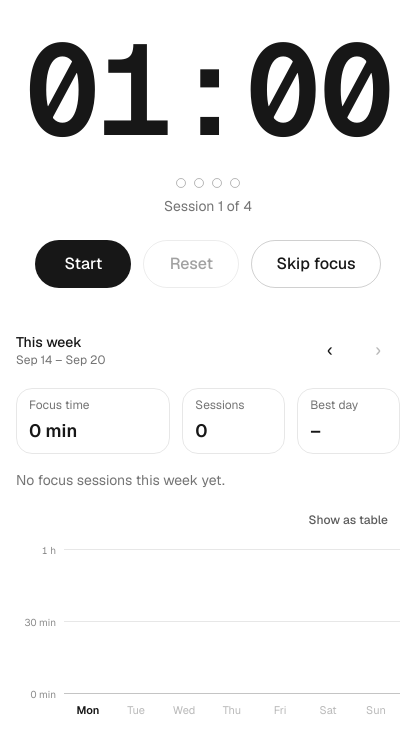
Test: deleting sessions › can undo a delete
Click the button "Start". click: (83, 264)
box: [35,240,131,288]
Wait 60000 ms
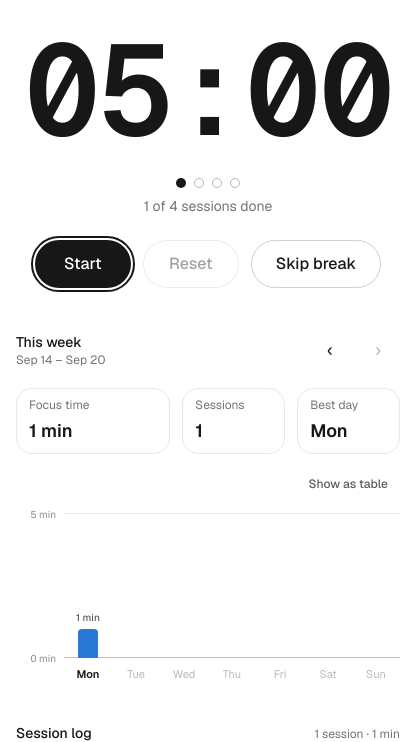
Click the button "Skip break". click: (316, 264)
box: [251,240,381,288]
(page scrolled)
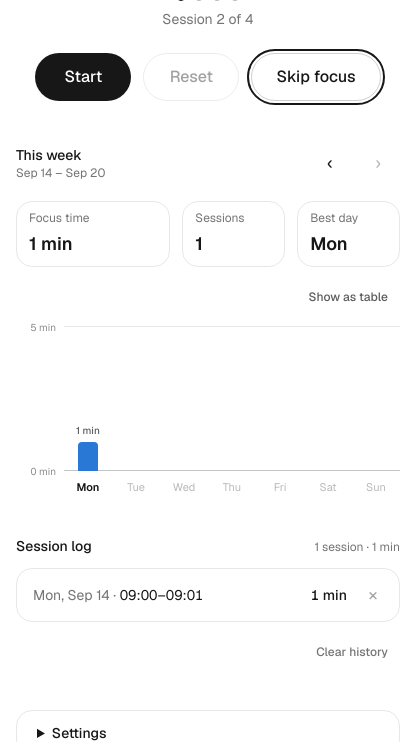
Click the button named "Delete session". click: (373, 594)
box: [351,572,395,616]
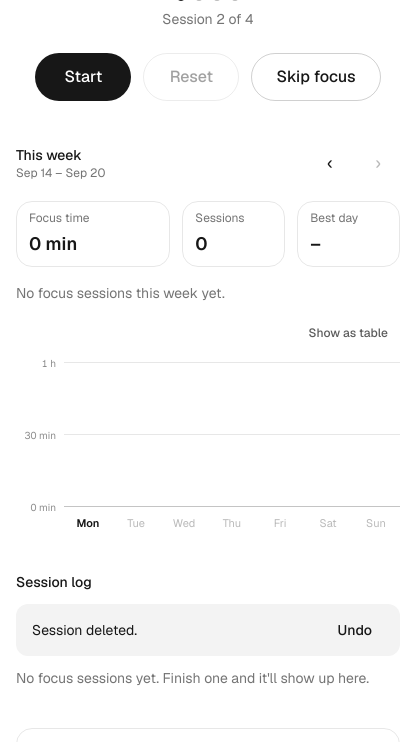
Expected: the message shows "Session deleted.", [32,620,137,638]
Click the button "Undo". click: (355, 630)
box: [326,612,384,648]
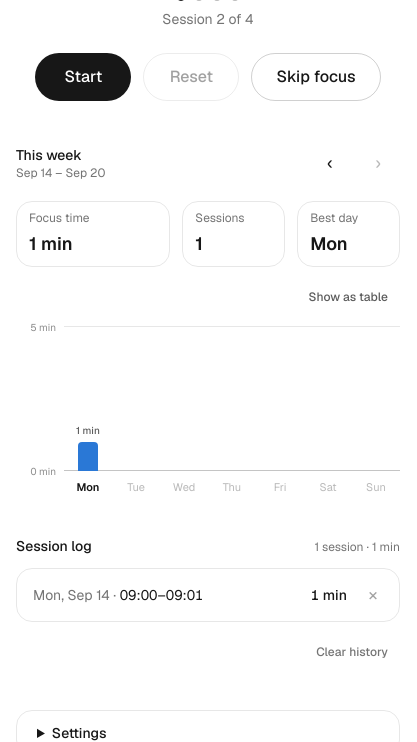
Expected: the message "Session deleted. Undo" is gone
